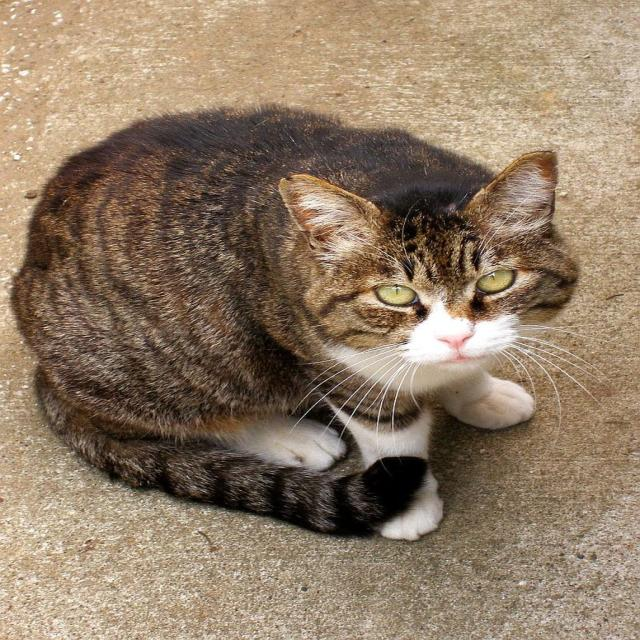Cat: (19, 100, 571, 534)
